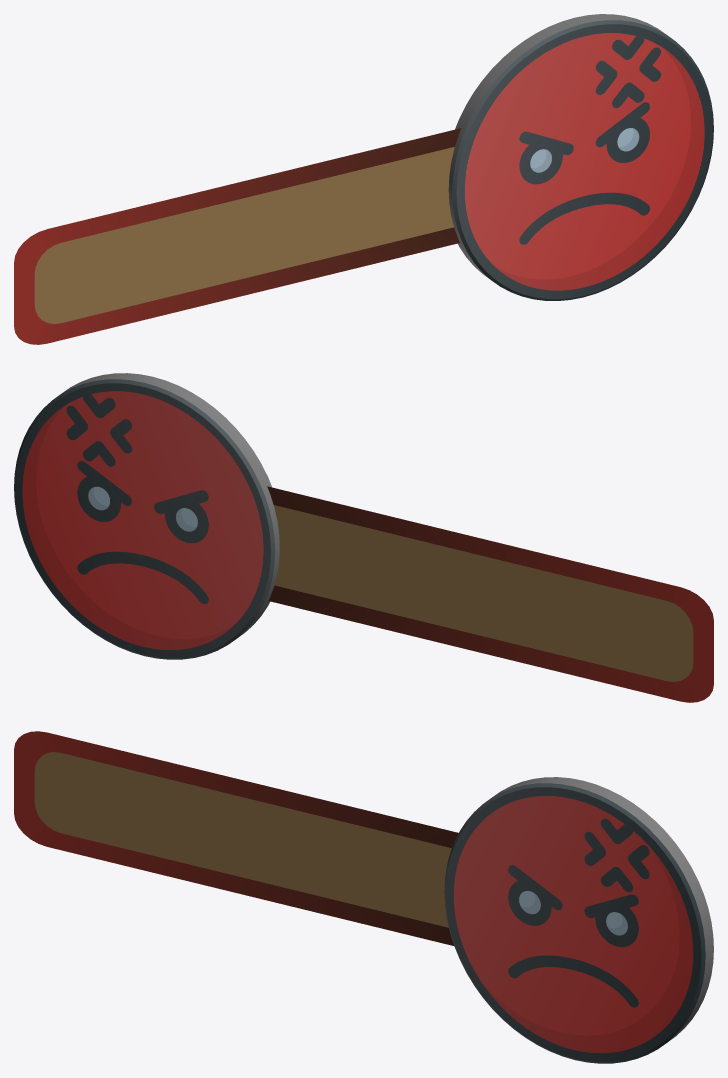
File: SM_Angry_Icon.fbx
3 renders of one model, top to bottom at view 1: azimuth 30°, elevation 25°; view 2: azimuth 150°, elevation 25°; view 3: azimuth 330°, elevation 25°, orthographic.
Visible parts, largest first — view 1: SM_Angry_Icon; view 2: SM_Angry_Icon; view 3: SM_Angry_Icon.
Boxes of the visible parts, x1=… form: SM_Angry_Icon: x1=14, y1=14, x2=713, y2=344; SM_Angry_Icon: x1=14, y1=373, x2=713, y2=702; SM_Angry_Icon: x1=14, y1=731, x2=713, y2=1063.
Bounding box in the file's own units: 145 × 54.39 × 4.12.
Materials: 3 (2 with a texture image).
